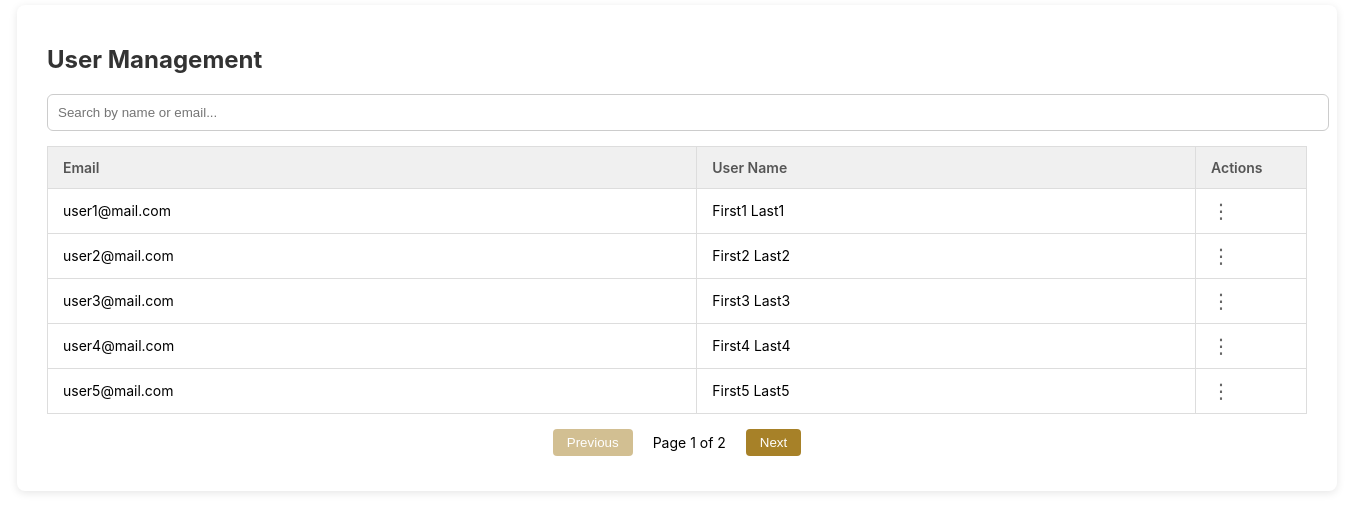
pagination controls work
Check: the text "user1@mail.com" is shown, box top-left (48, 188), bottom-right (697, 233)
Check: the text "Page 1 of 2" is shown, box top-left (653, 434), bottom-right (726, 451)
Click the button "Next" at (774,442), box top-left (746, 429), bottom-right (801, 456)
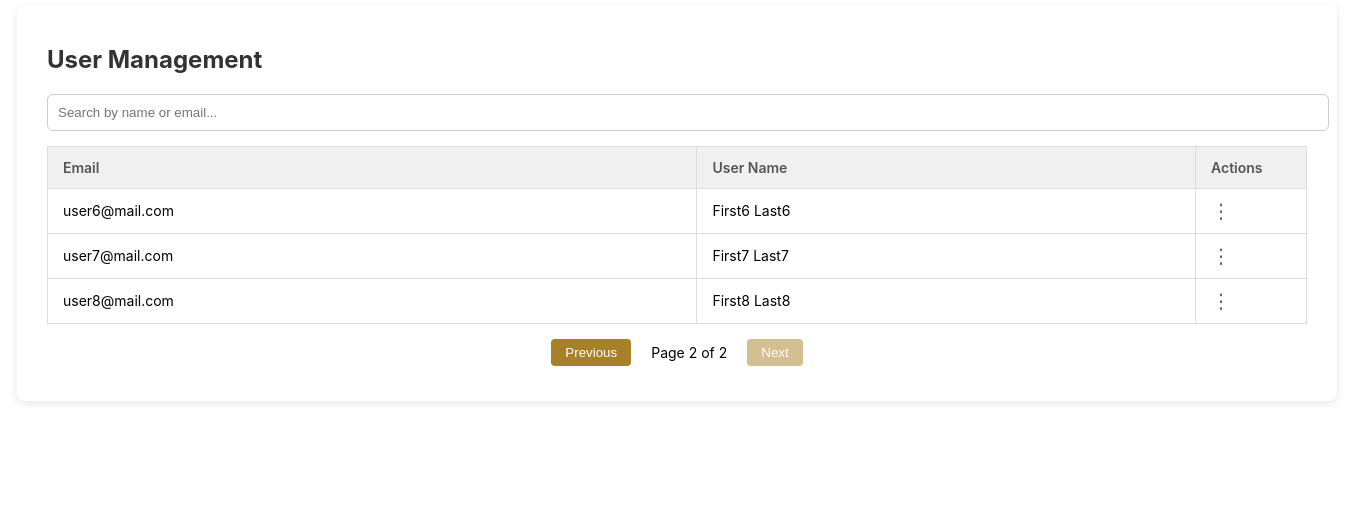
Check: the text "Page 2 of 2" is shown, box top-left (651, 344), bottom-right (727, 361)
